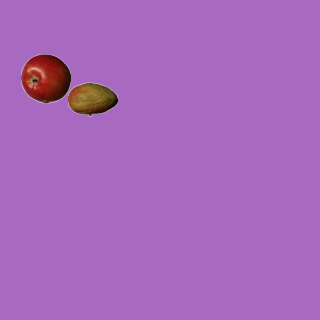Apple Braeburn: (20, 53, 70, 103)
Papaya: (67, 74, 117, 124)
